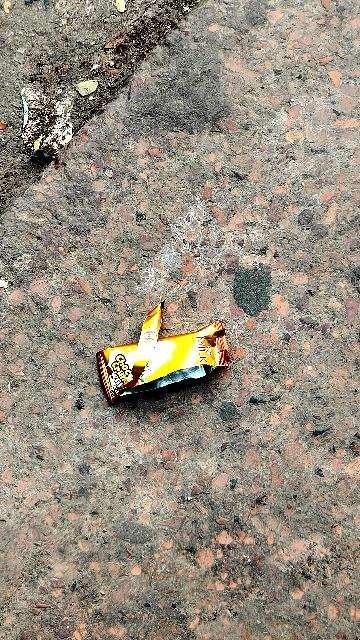packet: (90, 322, 236, 392)
